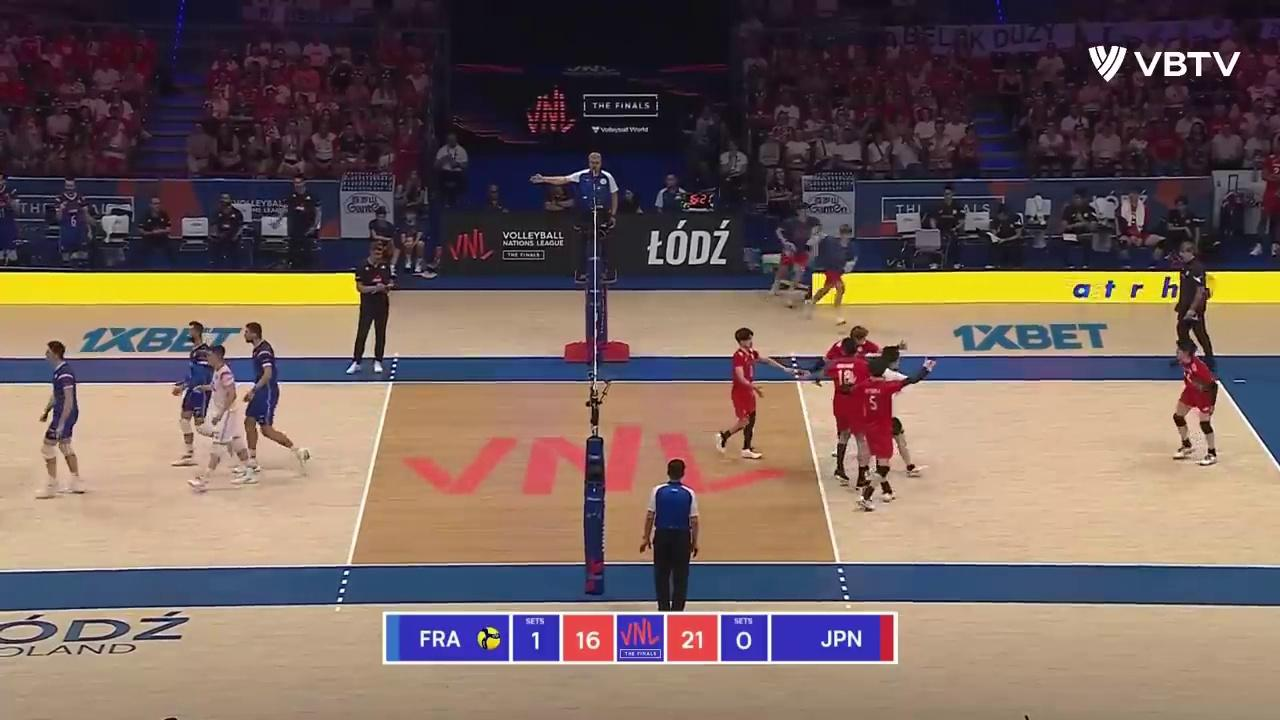ball: (836, 316, 848, 329)
